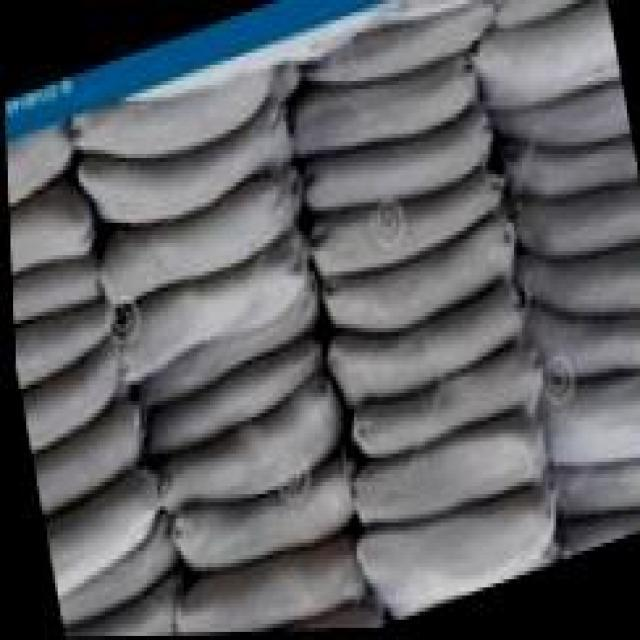gunny_bag: (114, 218, 307, 377), (75, 93, 289, 226), (92, 171, 300, 306), (353, 488, 550, 623), (321, 276, 518, 408), (154, 376, 336, 509), (348, 407, 541, 526), (318, 213, 510, 331), (166, 451, 348, 569), (147, 335, 320, 458), (347, 343, 541, 452), (310, 164, 498, 276), (297, 112, 485, 219), (289, 54, 473, 160), (164, 536, 358, 636), (473, 4, 620, 114), (39, 462, 153, 594), (301, 6, 483, 84), (28, 405, 140, 509), (17, 342, 114, 450), (538, 373, 640, 467), (488, 88, 629, 156), (510, 189, 640, 260), (11, 297, 112, 383), (56, 568, 178, 639), (522, 306, 640, 378), (500, 137, 637, 199), (515, 245, 640, 312), (7, 173, 91, 266), (9, 249, 98, 318), (549, 460, 640, 516), (553, 510, 640, 560), (254, 608, 379, 634), (492, 0, 569, 28)
